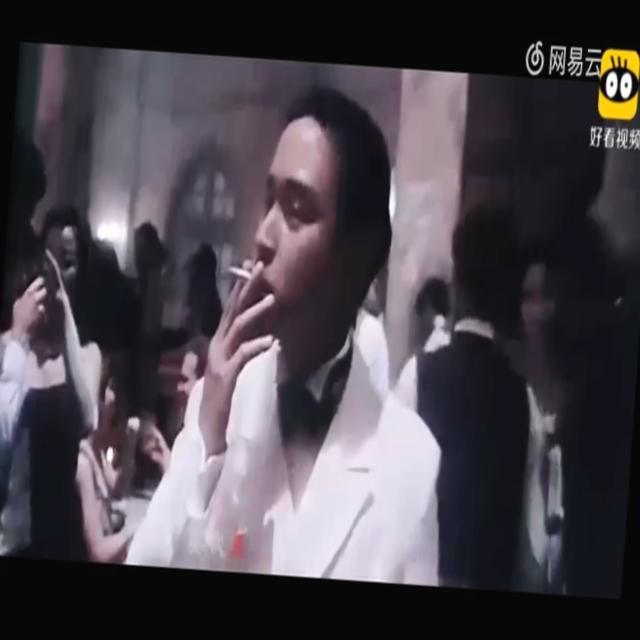smoke: (228, 260, 263, 289)
